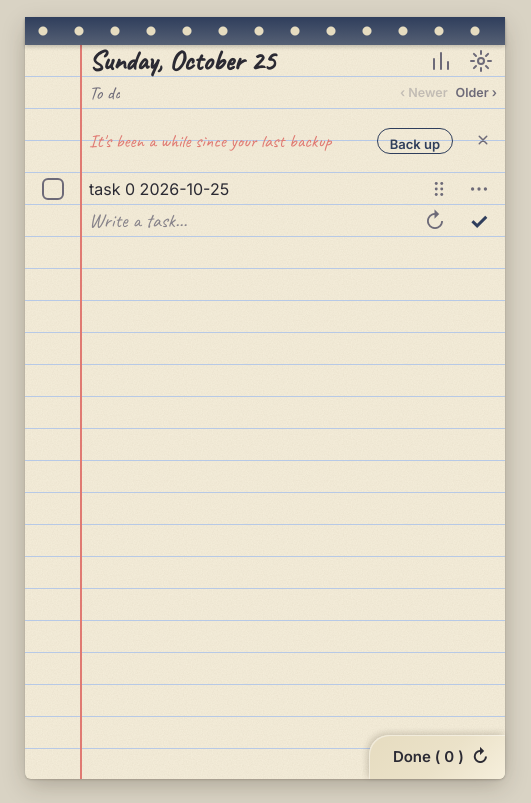
Test: the backup reminder › shows on today when a backup is overdue, and dismissing hides it
The width and height of the screenshot is (531, 803).
Expected: the text "It's been a while since your last backup" is shown, [89,126,369,156]
Click the button named "Dismiss reminder".
click(483, 141)  # box [461,128,505,154]
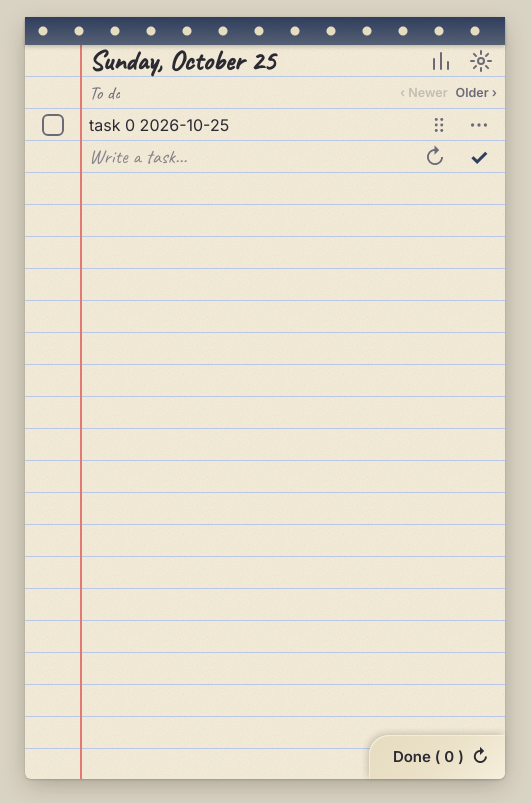
Expected: the text "It's been a while since your last backup" is gone
